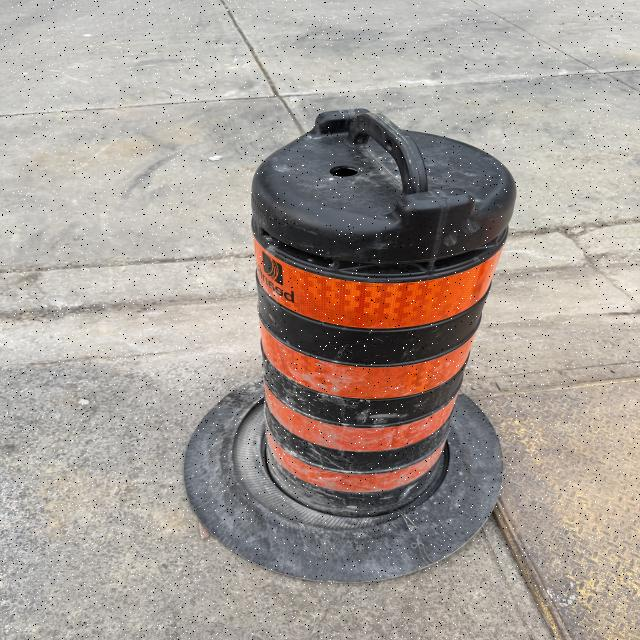Teraffic Barrel: (187, 110, 515, 580)
